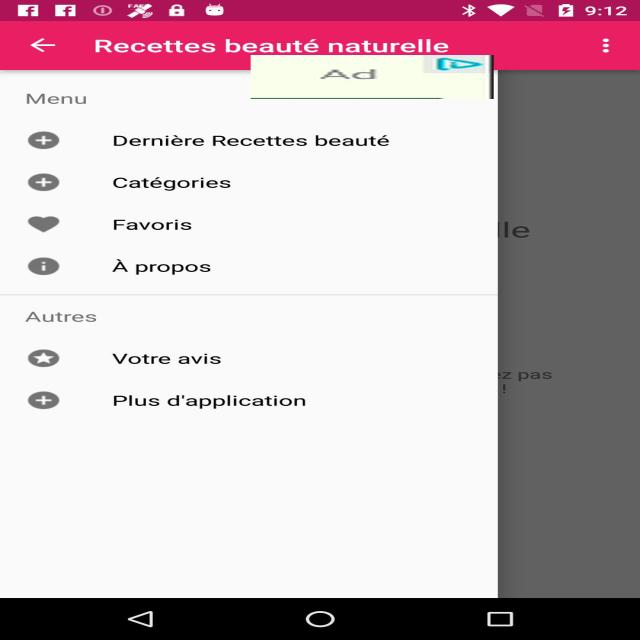sneaking: (251, 55, 494, 99)
